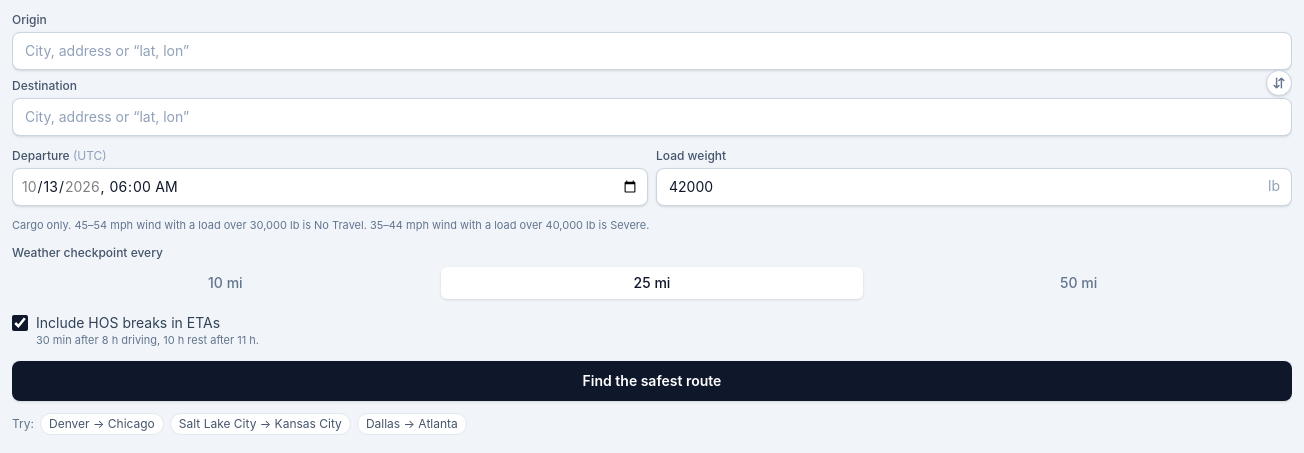
Scenario: TripForm › should empty a box when a swap moves an unpicked side into it
The width and height of the screenshot is (1304, 453).
Click the button "Denver → Chicago" at (102, 424), box [40,413,164,435]
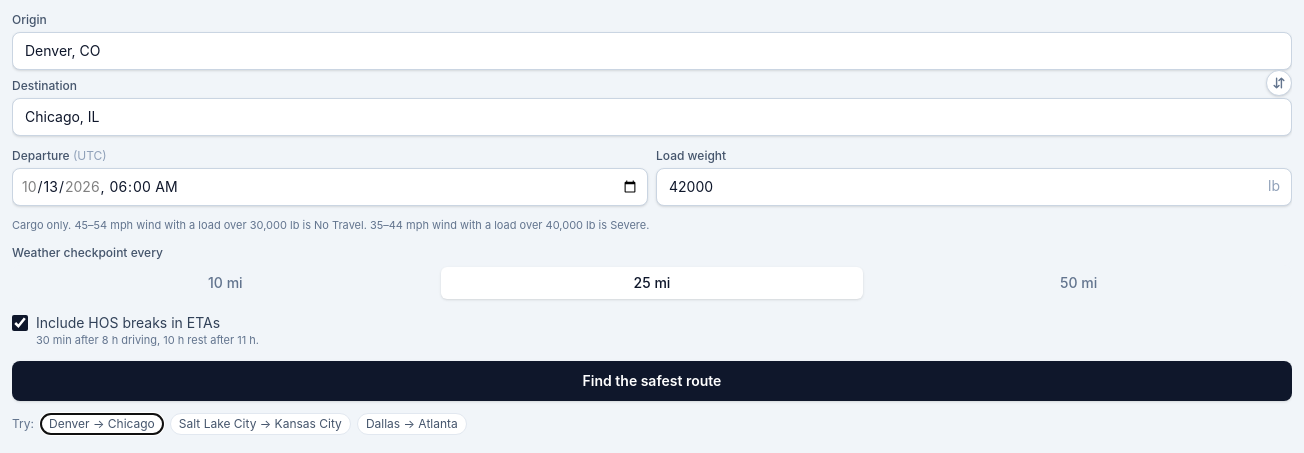
Type "x" into the dropdown labelled "Destination" at (652, 117), box [12,98,1292,136]
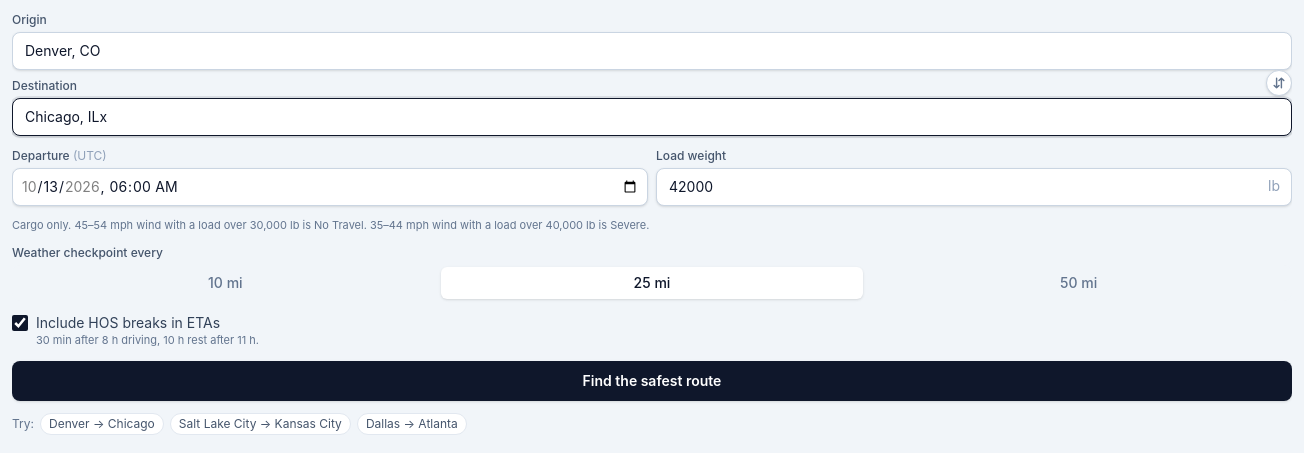
Now the dropdown labelled "Destination" holds "Chicago, ILx", box [12,98,1292,136]
Click the button named "Swap origin and destination" at (1279, 83), box [1266,70,1292,96]
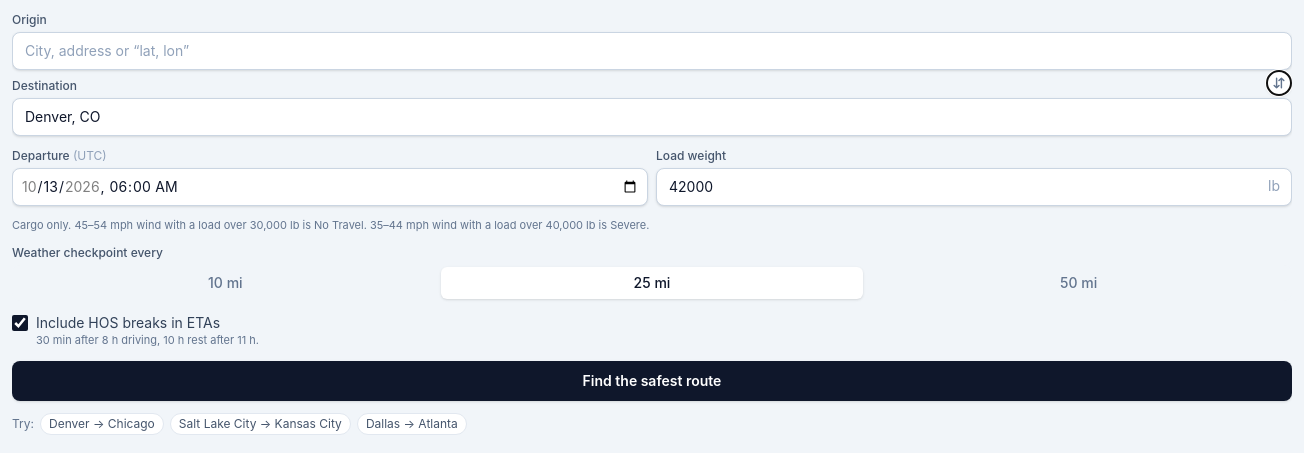
Now the dropdown labelled "Origin" is empty, box [12,32,1292,70]
Now the dropdown labelled "Destination" holds "Denver, CO", box [12,98,1292,136]
